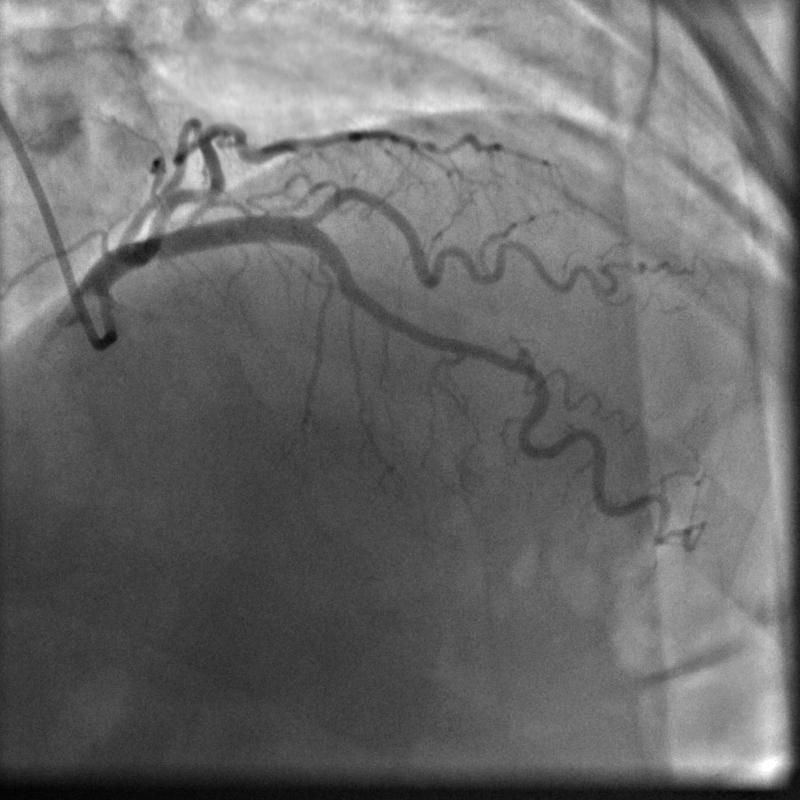Stenosis: (474, 342, 537, 377)
